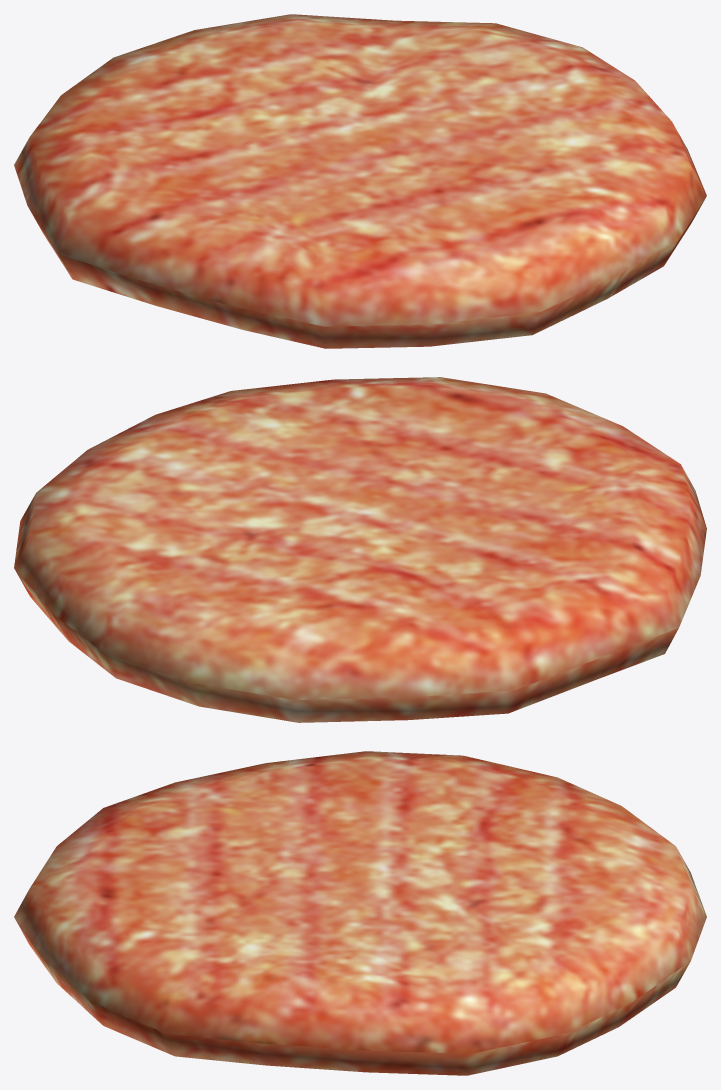
Rendered from chopped_steak.FBX.
3 views of the same model, one above another, from view 1: azimuth 30°, elevation 25°; view 2: azimuth 150°, elevation 25°; view 3: azimuth 270°, elevation 25° (orthographic). The views are drawn at different scales.
Parts seen in each view (by area): view 1: chopped_steak__LOD00; view 2: chopped_steak__LOD00; view 3: chopped_steak__LOD00.
Boxes of the visible parts, <box> form: chopped_steak__LOD00: <box>14,14,706,348</box>; chopped_steak__LOD00: <box>14,377,706,722</box>; chopped_steak__LOD00: <box>14,751,706,1075</box>.
Size of what is drawn, in the model's own units: 13.44 by 2.06 by 13.97.
1 material, 1 textured.
